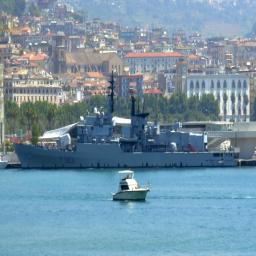Fragata: (13, 68, 242, 171)
